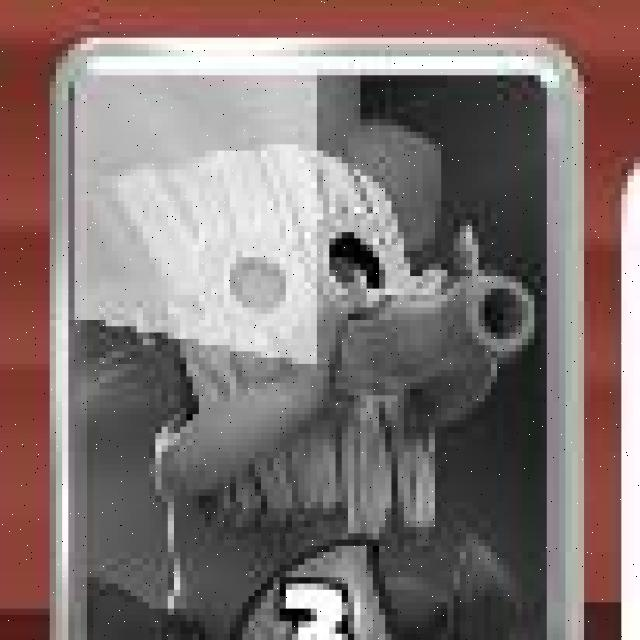Dart_Goblin: (51, 36, 586, 640)
